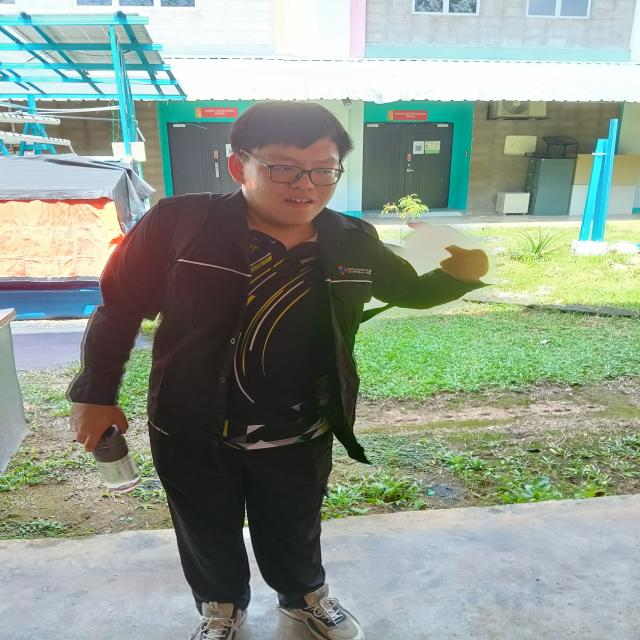person_with_labcoat: (70, 101, 488, 640)
